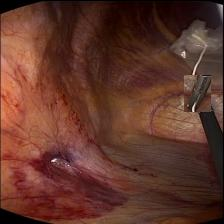Grasper: (184, 74, 211, 111)
Specimen Bag: (172, 17, 224, 77)
